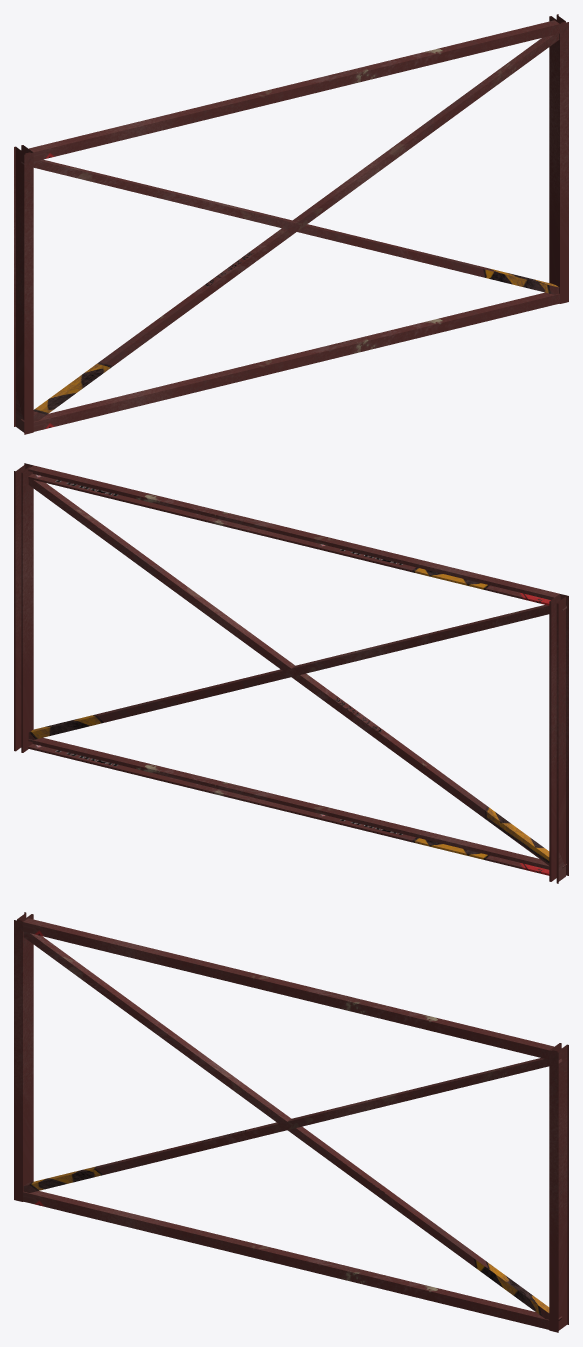
Rendered from CS_formwork_system_01.FBX.
The picture shows the model from 3 angles, top to bottom: view 1: azimuth 30°, elevation 25°; view 2: azimuth 150°, elevation 25°; view 3: azimuth 330°, elevation 25°; orthographic projection.
Visible parts, largest first — view 1: SM_formwork_system_01; view 2: SM_formwork_system_01; view 3: SM_formwork_system_01.
Boxes of the visible parts, x1,y1,x2,y2 form: SM_formwork_system_01: (14, 14, 568, 434); SM_formwork_system_01: (14, 463, 568, 883); SM_formwork_system_01: (14, 912, 568, 1332).
Size of the model in its own units: 600 by 20 by 295.
